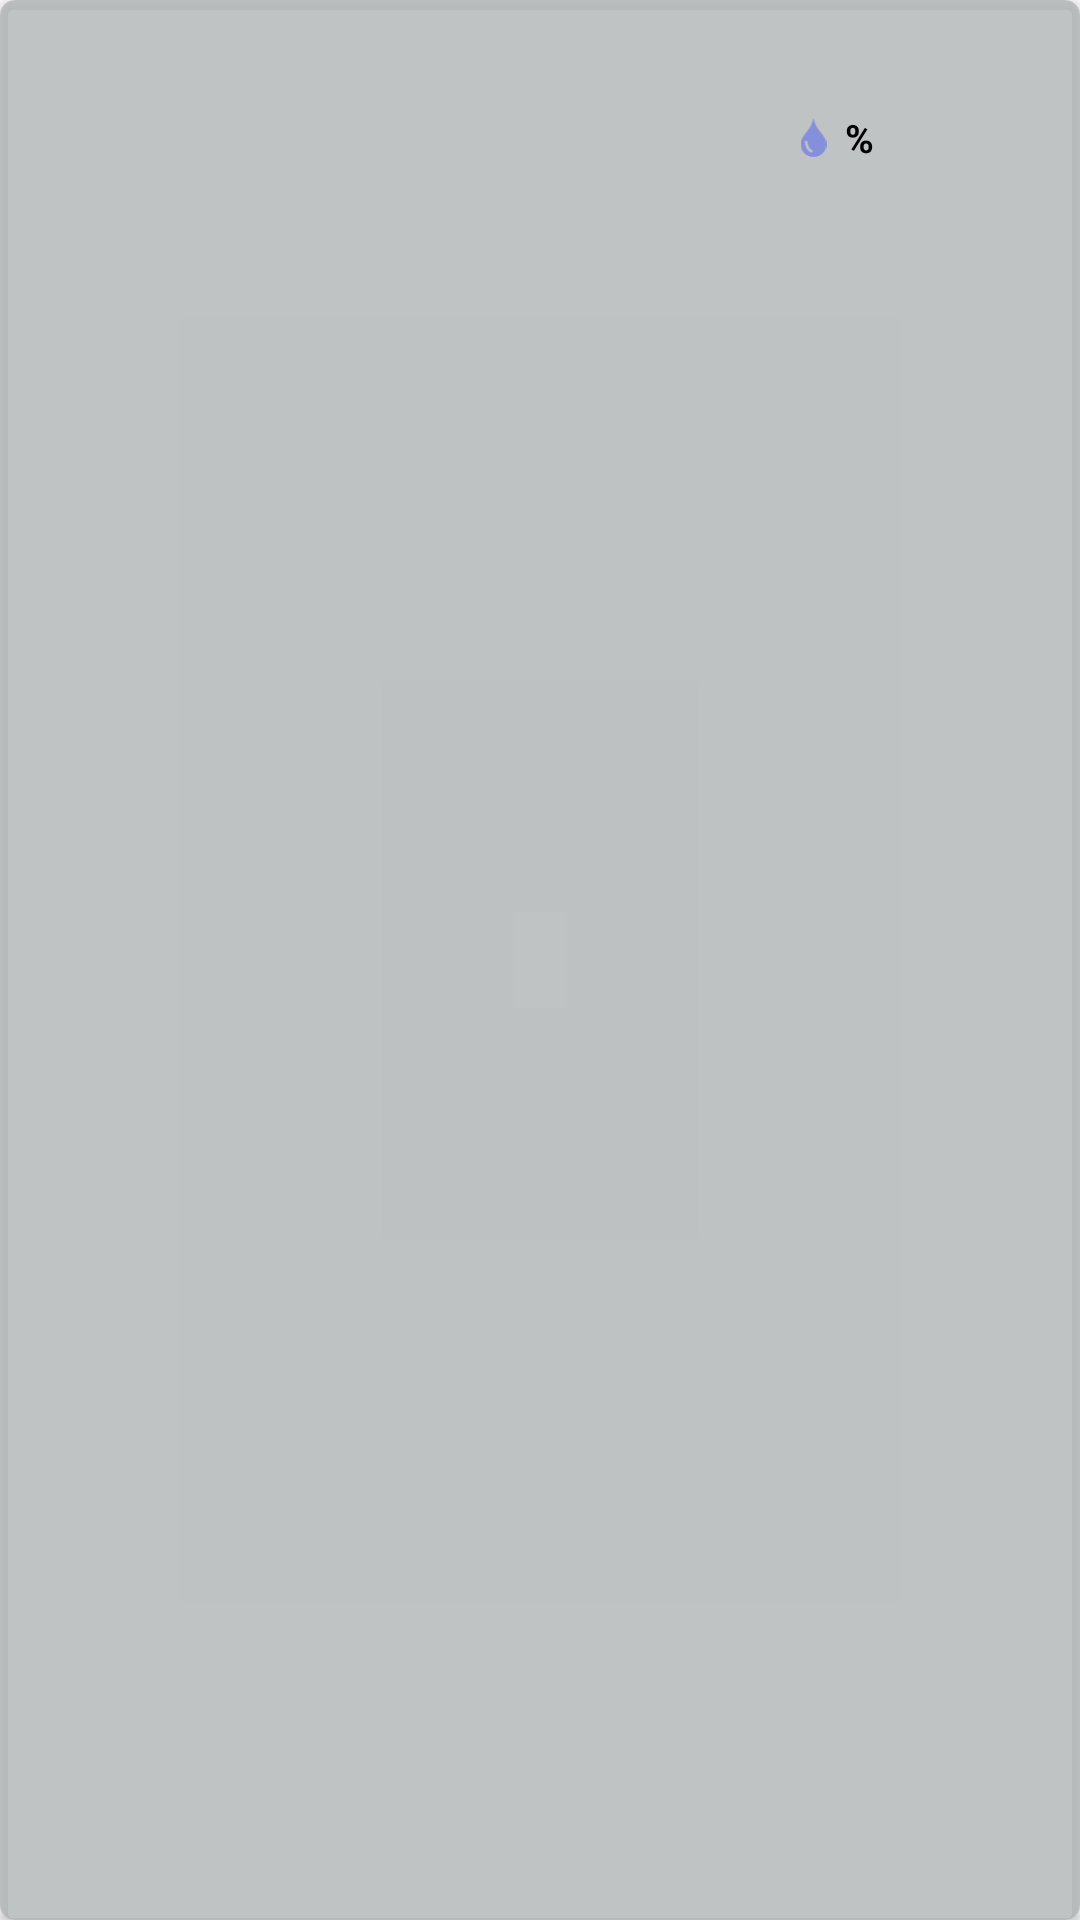

Icon click points for this 1080px x 1920px phone screenshot, format (x,y):
drop icon: (814,138)
